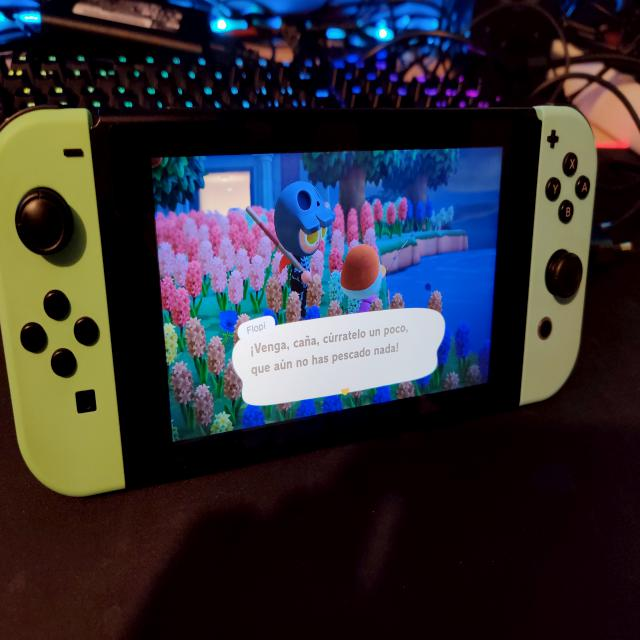text_bubble: (231, 306, 448, 410)
